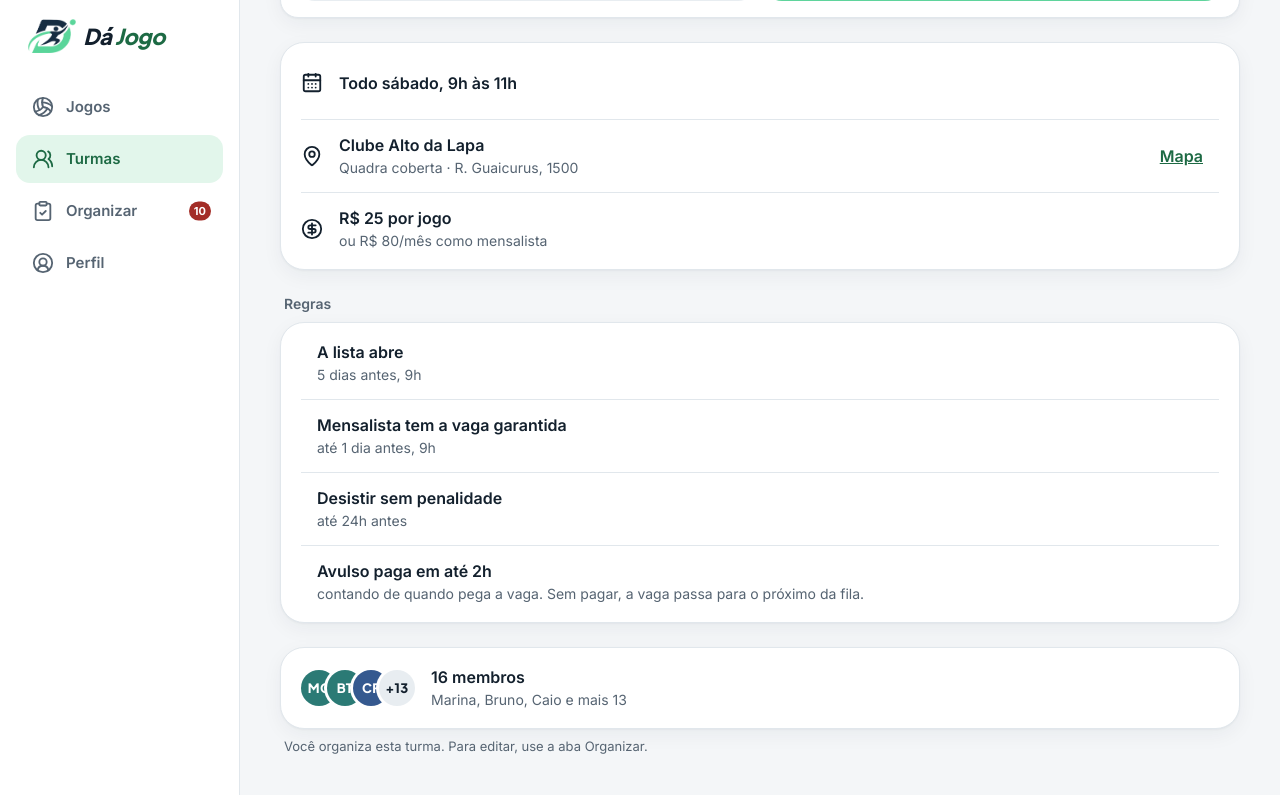
3.6 Turmas › quem organiza também ordena os membros por gênero
(page scrolled)
Step 1. Click the button "MC BT CF +13 16 membros Marina, Bruno, Caio e mais 13" → (319, 688), box [301,652,1219,724]
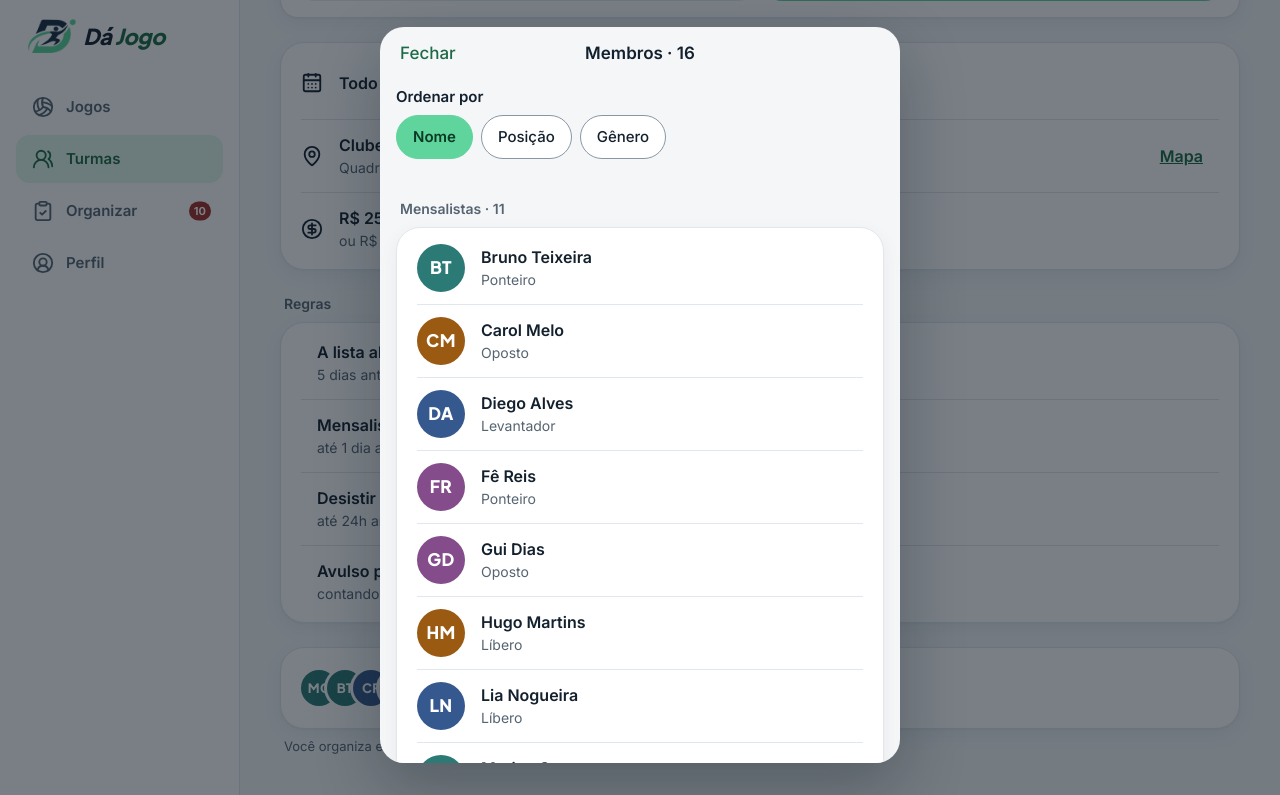
Step 2. Click the button "Gênero" → (623, 137), box [580,115,666,159]
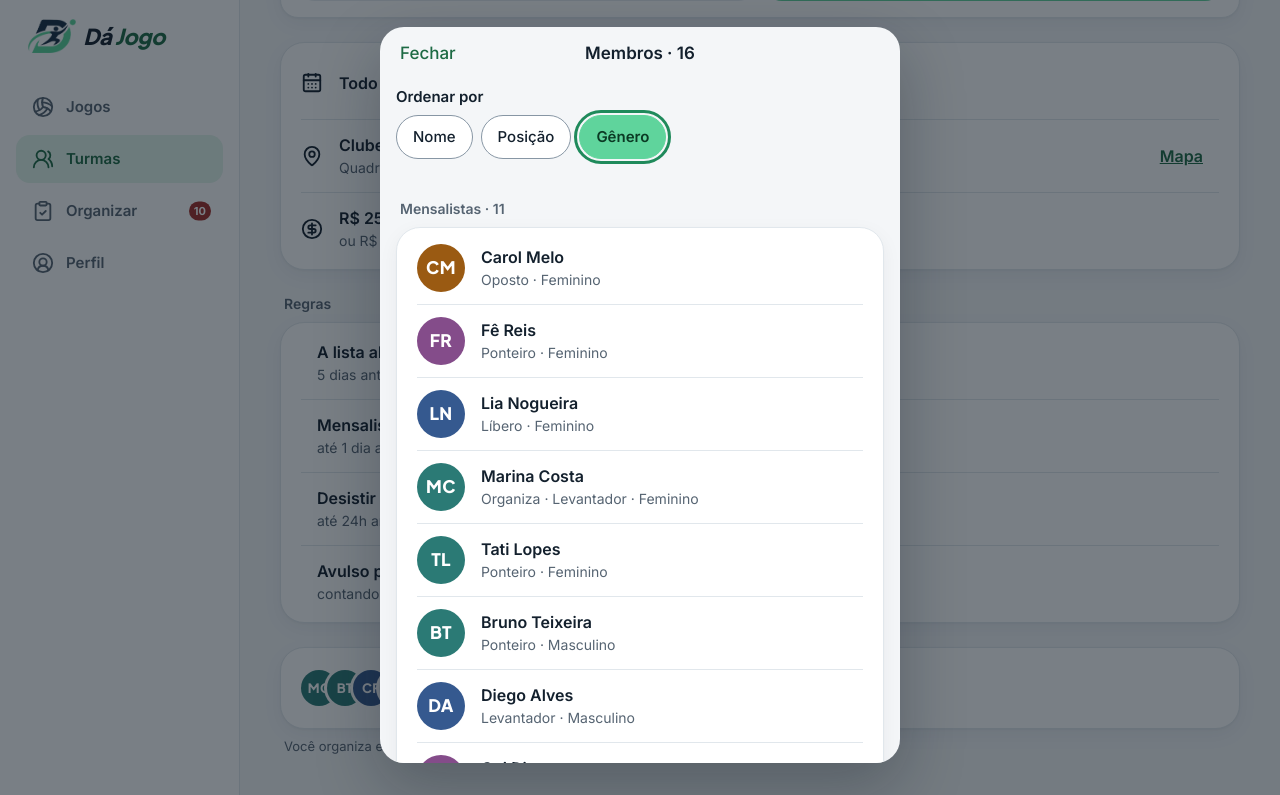
Check: the text "Oposto · Feminino" is shown, box [480,270,601,288]
